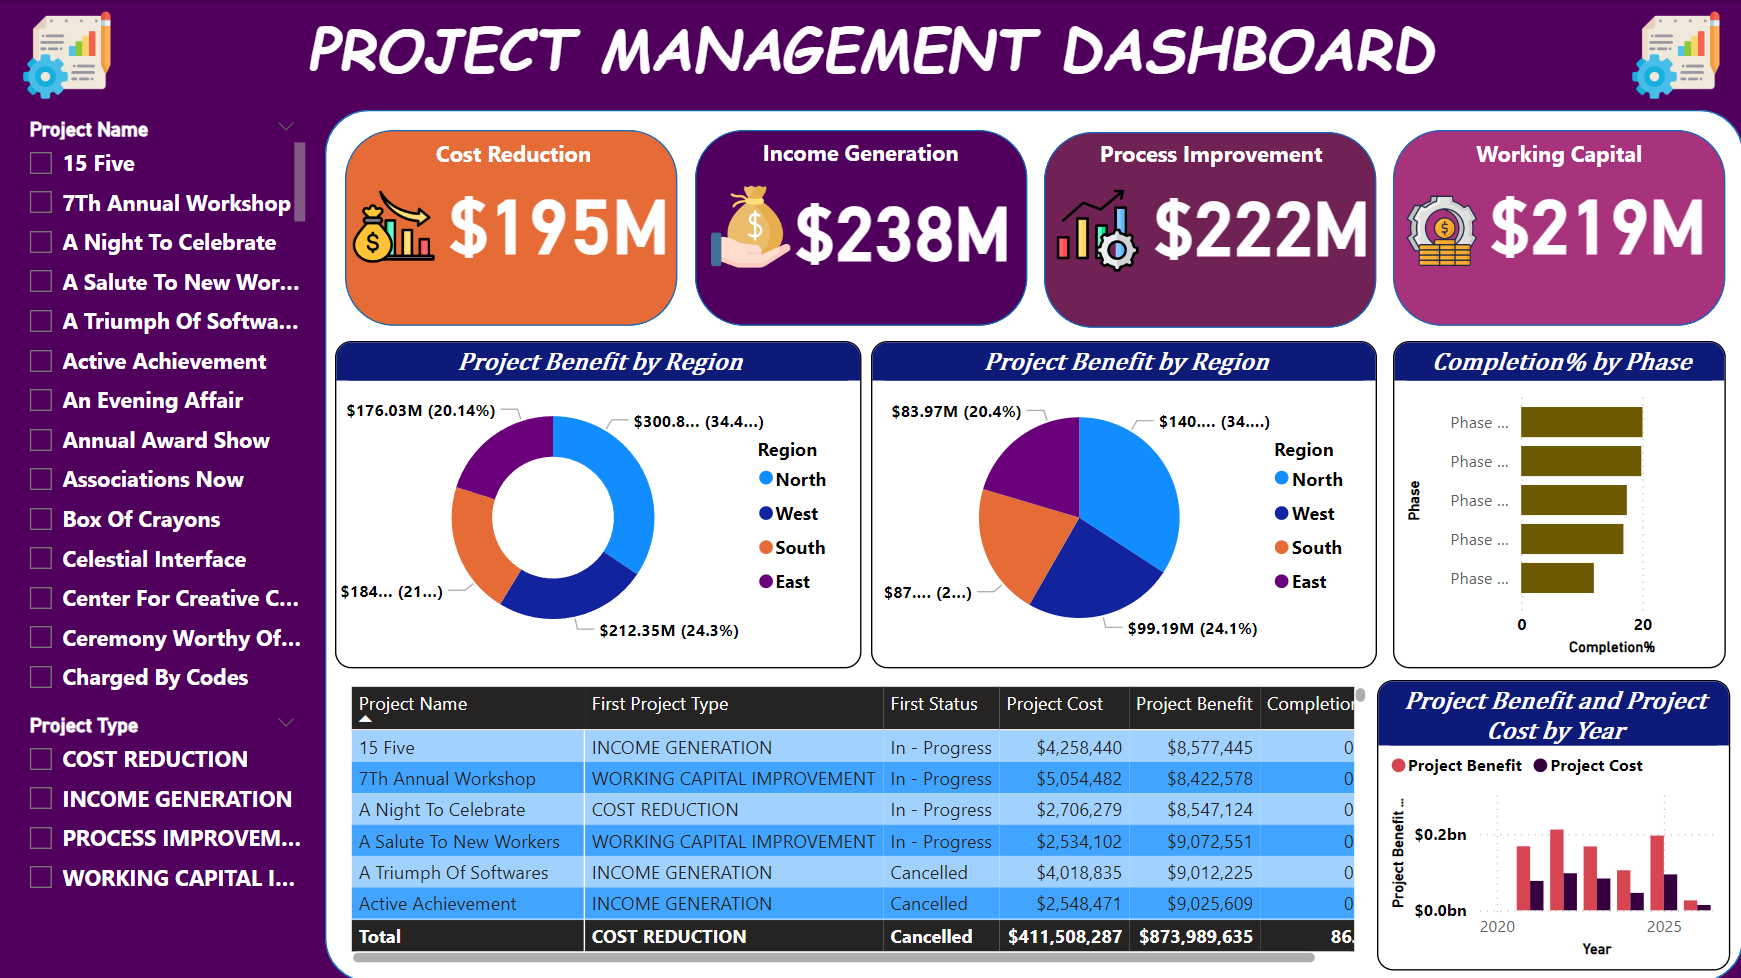

This screenshot's page, from the dashboard's own definition file:
{"tool":"powerbi","page":{"name":"Page 1","canvas":[1280,720],"ordinal":0},"visuals":[{"type":"shape","box":[240.1,80.8,1040,639.4],"z":0},{"type":"shape","box":[254.6,95.3,243.7,143.6],"z":1},{"type":"shape","box":[510.7,95.3,243.7,143.6],"z":2},{"type":"shape","box":[766.9,96.6,243.7,143.6],"z":3},{"type":"textbox","box":[767.3,96.5,243.7,31.4],"z":5},{"type":"shape","box":[1023.1,95.3,243.7,143.6],"z":6},{"type":"textbox","box":[1023.1,96.5,243.7,31.4],"z":8},{"type":"textbox","box":[510,95.7,244.3,31.4],"z":9},{"type":"card","fields":{"Values":["Project Management Dataset. Project Benefit "]},"box":[290.9,102.9,240.1,113.9],"z":10,"group":"g1"},{"type":"card","fields":{"Values":["Project Management Dataset. Project Benefit "]},"box":[543.4,108.4,240.1,113.9],"z":11,"group":"g1"},{"type":"card","fields":{"Values":["Project Management Dataset. Project Benefit "]},"box":[806.8,104.3,240.1,113.9],"z":12,"group":"g1"},{"type":"card","fields":{"Values":["Project Management Dataset. Project Benefit "]},"box":[1066.2,102.9,214.1,113.9],"z":13,"group":"g1"},{"type":"image","box":[1023.6,134.5,70,70],"z":14,"group":"g1"},{"type":"image","box":[255.2,131.7,70,70],"z":15,"group":"g1"},{"type":"image","box":[517.3,131.7,70,70],"z":16,"group":"g1"},{"type":"image","box":[771.2,134.5,70,70],"z":17,"group":"g1"},{"type":"group","id":"g1","title":"Group 1","box":[255.2,102.9,1025,119.4],"z":18},{"type":"donutChart","title":"Project Benefit  by Region","fields":{"Y":["Project Management Dataset. Project Benefit "],"Category":["Project Management Dataset.Region"]},"box":[247.1,250,385.7,240],"z":19},{"type":"textbox","box":[255.7,97.1,244.3,31.4],"z":20},{"type":"pieChart","title":"Project Benefit  by Region","fields":{"Y":["Project Management Dataset. Project Cost "],"Category":["Project Management Dataset.Region"]},"box":[640,250,371.4,240],"z":22},{"type":"barChart","title":"Completion% by Phase","fields":{"Y":["Project Management Dataset.Completion%"],"Category":["Project Management Dataset.Phase"]},"box":[1022.9,250,244.3,240],"z":23},{"type":"pivotTable","fields":{"Rows":["Project Management Dataset.Project Name"],"Values":["Project Management Dataset.Project Type","Project Management Dataset.Status","Project Management Dataset. Project Cost ","Project Management Dataset. Project Benefit ","Project Management Dataset.Completion%"]},"box":[254.3,498.6,754.3,212.9],"z":24},{"type":"clusteredColumnChart","fields":{"Y":["Project Management Dataset. Project Benefit ","Project Management Dataset. Project Cost "],"Category":["Project Management Dataset.End Date.Variation.Date Hierarchy.Year"]},"box":[1011.4,498.6,258.6,212.9],"z":25},{"type":"slicer","fields":{"Values":["Project Management Dataset.Project Name"]},"box":[10,81.4,220,437.1],"z":26},{"type":"slicer","fields":{"Values":["Project Management Dataset.Project Type"]},"box":[10,518.6,220,192.9],"z":27},{"type":"textbox","box":[0,0,1280,81.4],"z":28},{"type":"image","box":[1180,0,100,81.4],"z":30},{"type":"image","box":[0,0,100,81.4],"z":31}]}

Visuals, with their boxes in screenshot pixels (x1, y1, x2, y2), scaled from the page's 1280x720 canvas onto the 1741x978 screenshot:
shape: [left=327, top=110, right=1740, bottom=977]
shape: [left=346, top=129, right=678, bottom=325]
shape: [left=695, top=129, right=1026, bottom=325]
shape: [left=1043, top=131, right=1375, bottom=326]
textbox: [left=1044, top=131, right=1375, bottom=174]
shape: [left=1392, top=129, right=1723, bottom=325]
textbox: [left=1392, top=131, right=1723, bottom=174]
textbox: [left=694, top=130, right=1026, bottom=173]
card - Project Management Dataset. Project Benefit : [left=396, top=140, right=722, bottom=294]
card - Project Management Dataset. Project Benefit : [left=739, top=147, right=1066, bottom=302]
card - Project Management Dataset. Project Benefit : [left=1097, top=142, right=1424, bottom=296]
card - Project Management Dataset. Project Benefit : [left=1450, top=140, right=1740, bottom=294]
image: [left=1392, top=183, right=1487, bottom=278]
image: [left=347, top=179, right=442, bottom=274]
image: [left=704, top=179, right=799, bottom=274]
image: [left=1049, top=183, right=1144, bottom=278]
"Group 1" group: [left=347, top=140, right=1740, bottom=302]
"Project Benefit  by Region" donutChart: [left=336, top=340, right=861, bottom=666]
textbox: [left=348, top=132, right=680, bottom=175]
"Project Benefit  by Region" pieChart: [left=870, top=340, right=1376, bottom=666]
"Completion% by Phase" barChart: [left=1391, top=340, right=1724, bottom=666]
pivotTable - Project Management Dataset.Project Name x Project Management Dataset.Project Type: [left=346, top=677, right=1372, bottom=966]
clusteredColumnChart - Project Management Dataset. Project Benefit  x Project Management Dataset. Project Cost : [left=1376, top=677, right=1727, bottom=966]
slicer - Project Management Dataset.Project Name: [left=14, top=111, right=313, bottom=704]
slicer - Project Management Dataset.Project Type: [left=14, top=704, right=313, bottom=966]
textbox: [left=0, top=0, right=1740, bottom=111]
image: [left=1605, top=0, right=1740, bottom=111]
image: [left=0, top=0, right=136, bottom=111]
